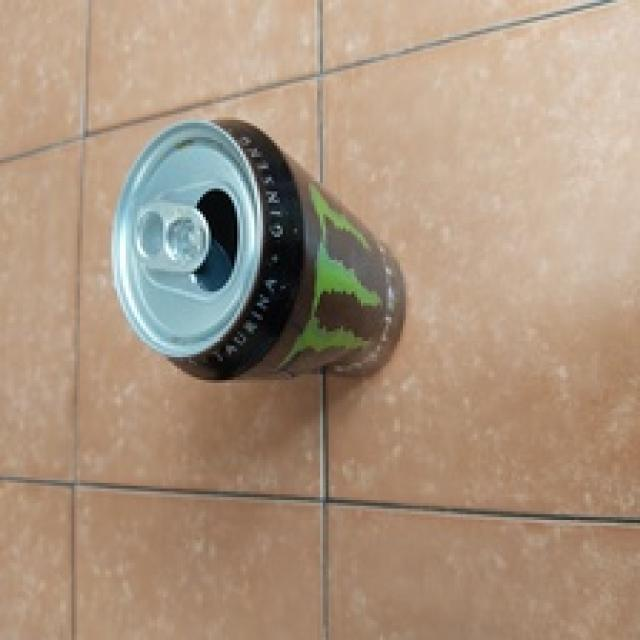recyclable: (106, 116, 406, 384)
